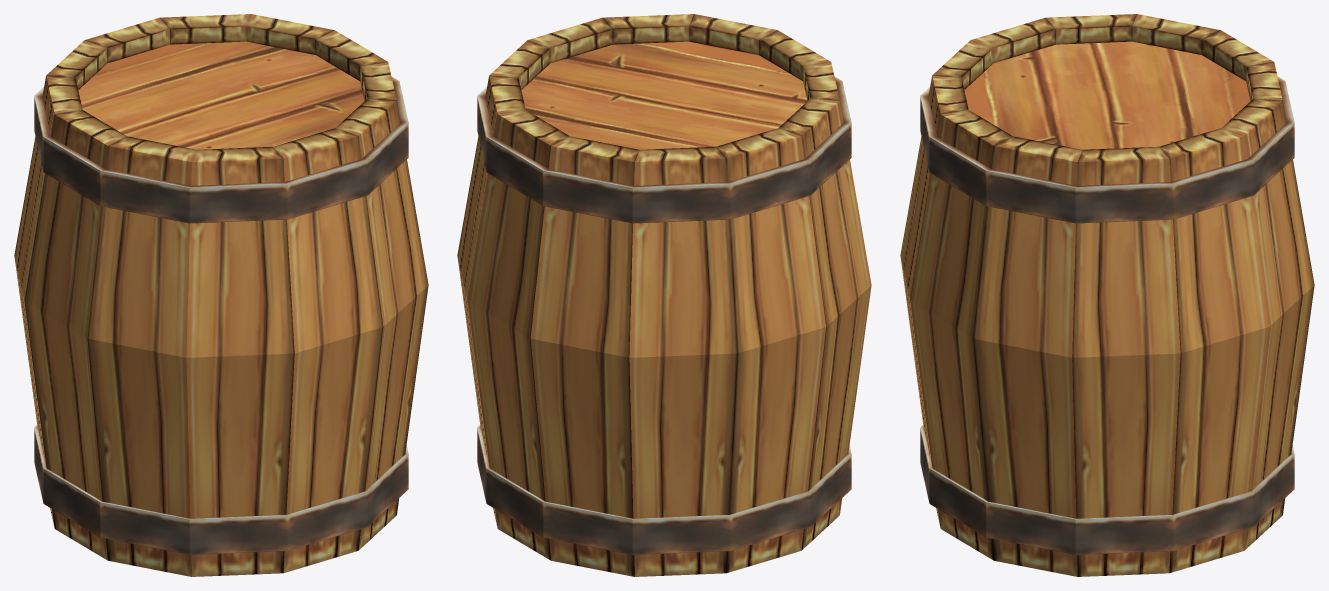
Rendered from barrel_00.fbx.
The picture shows the model from 3 angles, left to right: view 1: azimuth 30°, elevation 25°; view 2: azimuth 150°, elevation 25°; view 3: azimuth 270°, elevation 25°; orthographic projection.
Parts seen in each view (by area): view 1: barrel_00:pCylinder2; view 2: barrel_00:pCylinder2; view 3: barrel_00:pCylinder2.
Part boxes in pixels (box(x1,y1,x2,y2)): barrel_00:pCylinder2: box(14, 14, 428, 576); barrel_00:pCylinder2: box(457, 14, 871, 576); barrel_00:pCylinder2: box(900, 14, 1314, 576).
Bounding box in the file's own units: 48.05 × 53.09 × 48.05.
Materials: 1 (1 with a texture image).
